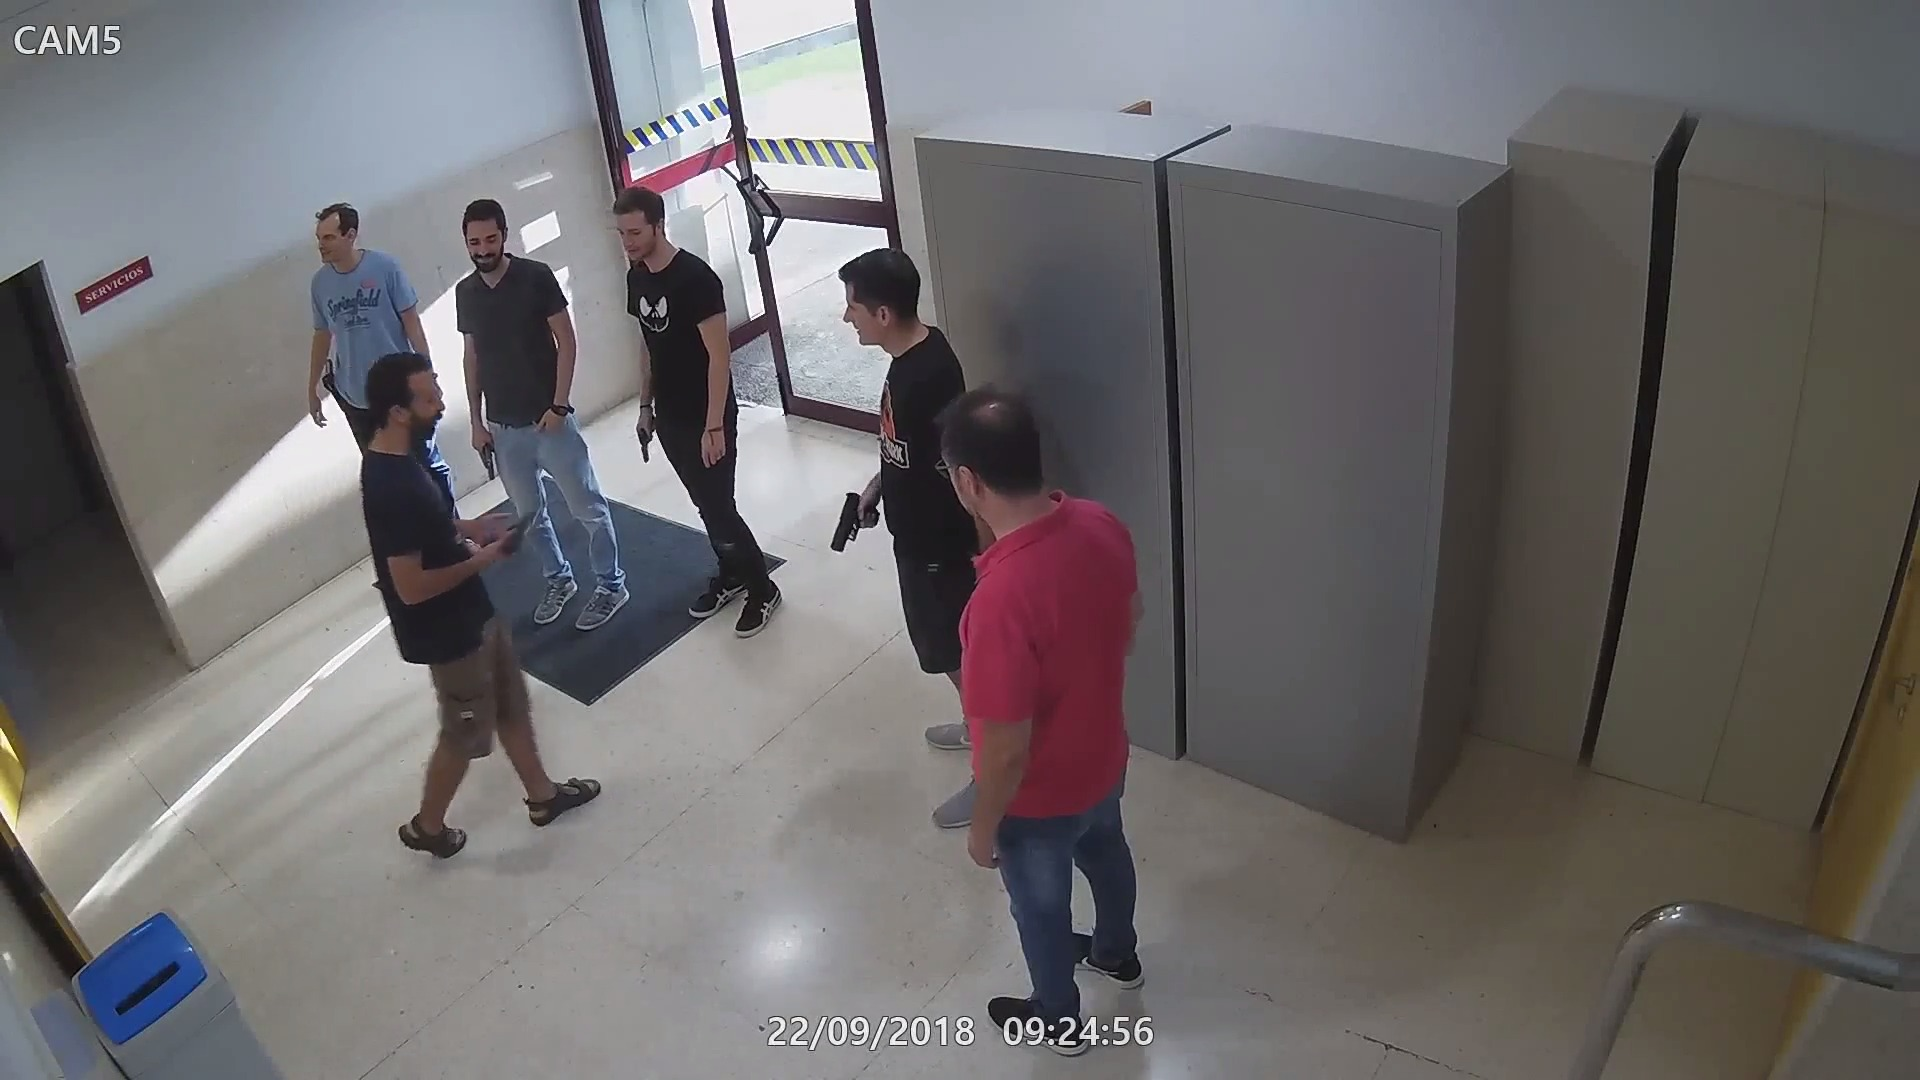Handgun: (823, 483, 884, 572), (485, 504, 538, 572), (465, 421, 502, 483), (314, 349, 340, 411), (634, 417, 662, 467)
